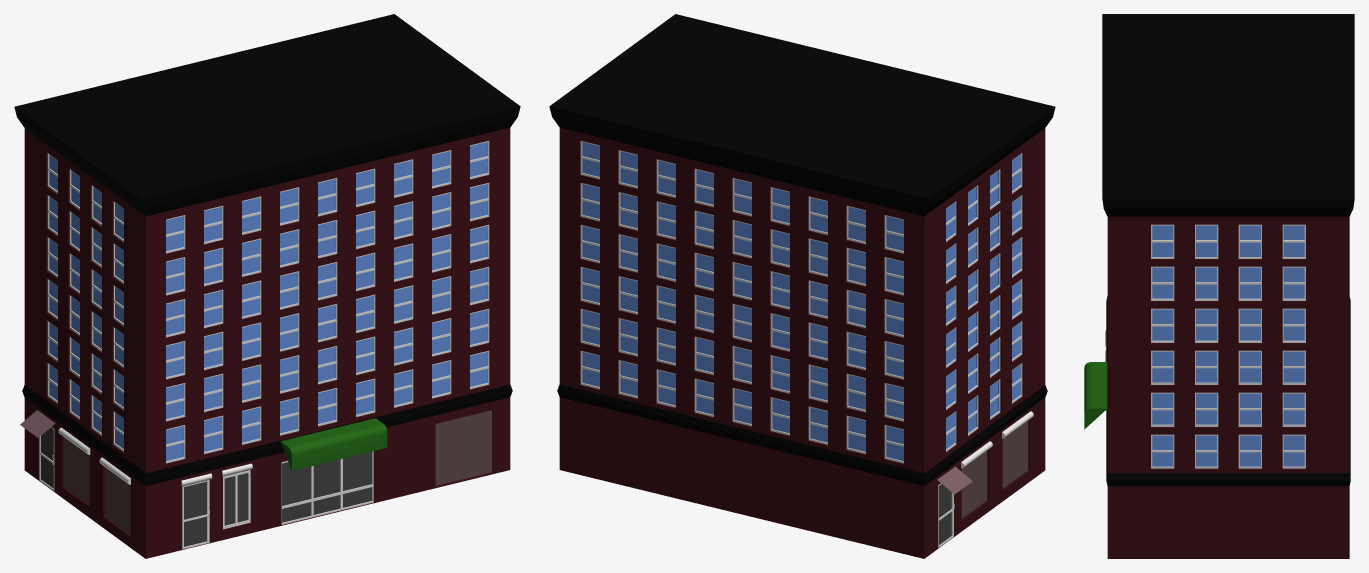
File: building11.fbx
3 views of the same model, side by side, from view 1: azimuth 30°, elevation 25°; view 2: azimuth 150°, elevation 25°; view 3: azimuth 270°, elevation 25° (orthographic).
Visible parts, largest first — view 1: building2; view 2: building2; view 3: building2.
Part boxes in pixels (box(x1,y1,x2,y2)): building2: box(14, 14, 520, 558); building2: box(549, 14, 1055, 558); building2: box(1084, 14, 1354, 558).
Bounding box in the file's own units: 4233 × 3773 × 2543.
